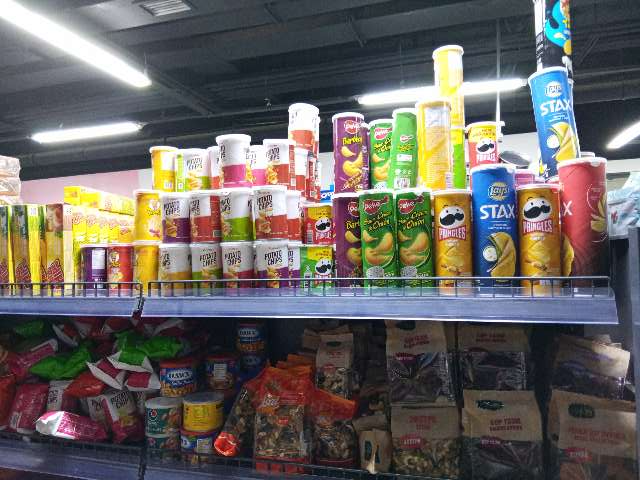pringles: (518, 186, 558, 296), (432, 192, 473, 292), (467, 125, 499, 167)
